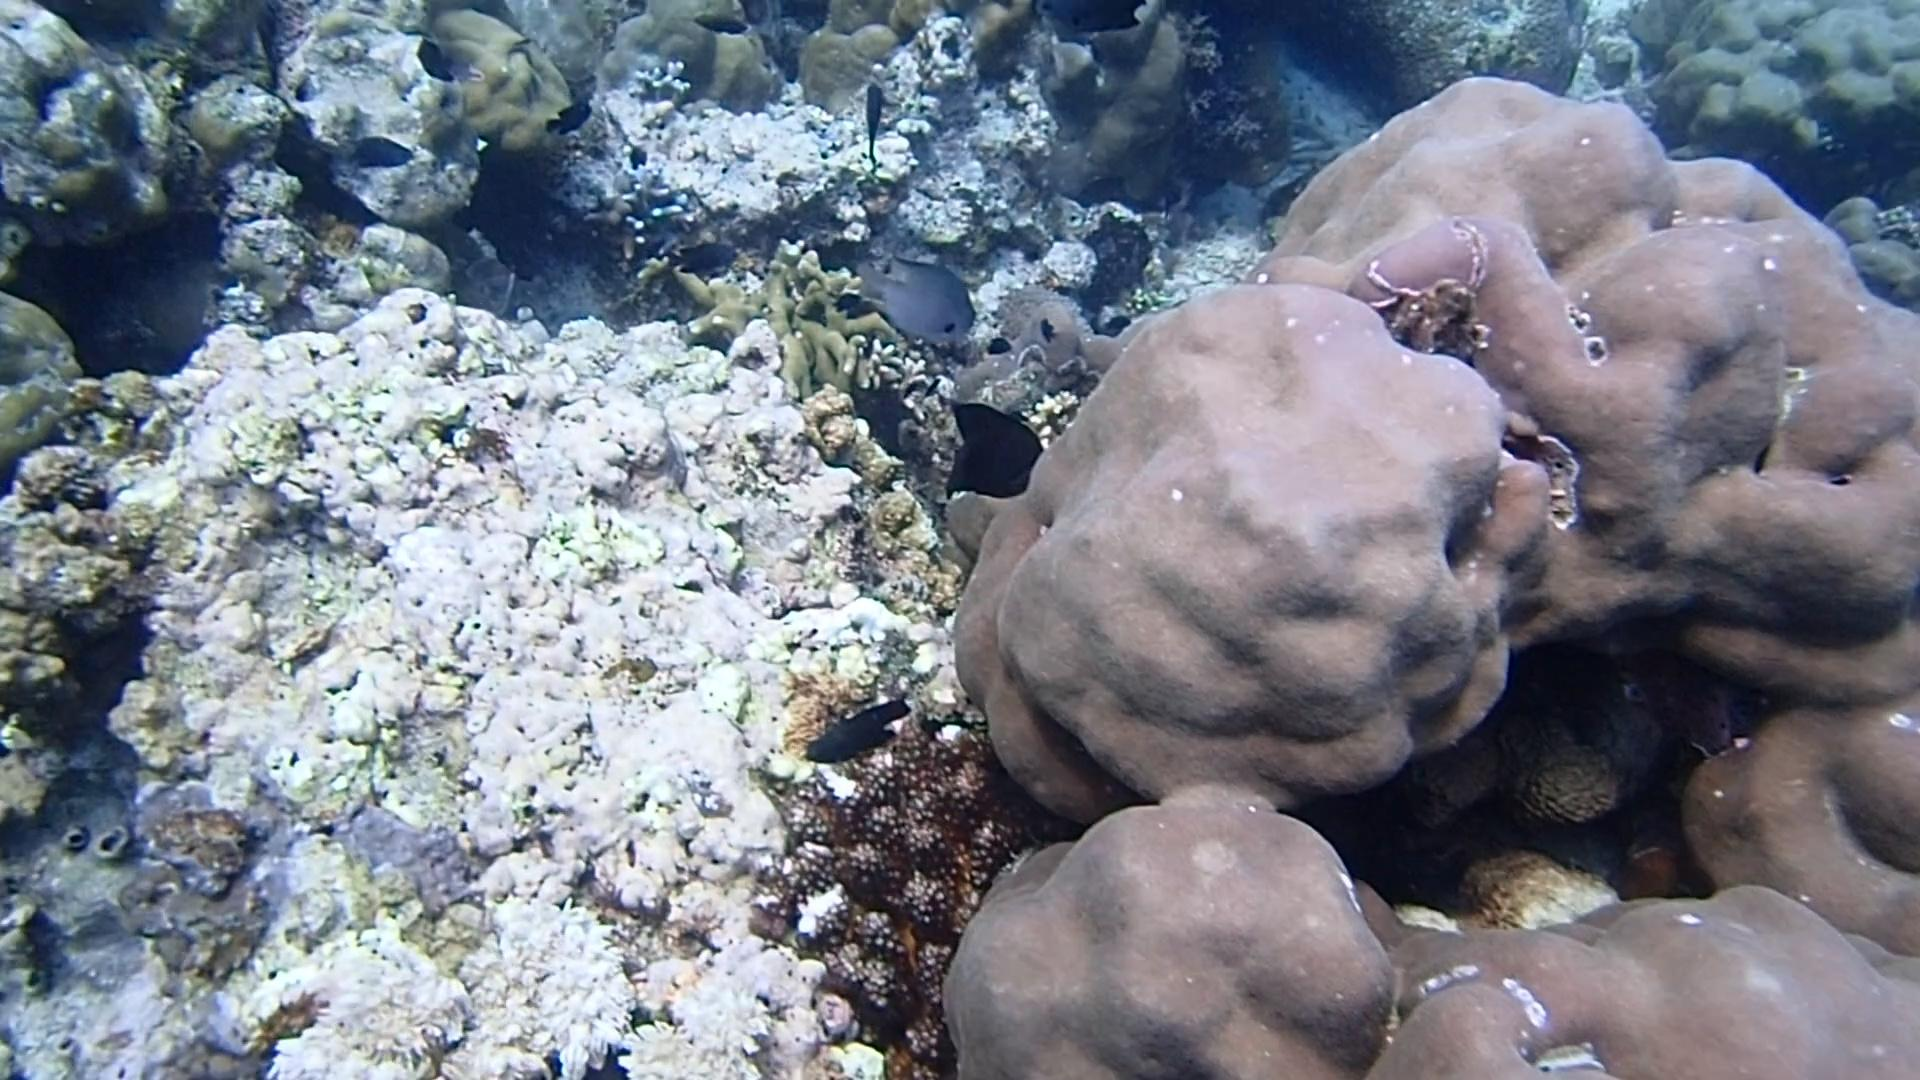Dark Fish: (942, 386, 1052, 518), (799, 687, 918, 775), (1029, 0, 1149, 40), (661, 232, 744, 286), (853, 76, 897, 173), (340, 129, 423, 177), (538, 87, 597, 145), (411, 32, 460, 94), (1034, 311, 1063, 355), (981, 334, 1018, 360), (1102, 311, 1138, 336), (831, 289, 864, 315)
Light Fish - Dark Fin: (853, 248, 989, 352)
